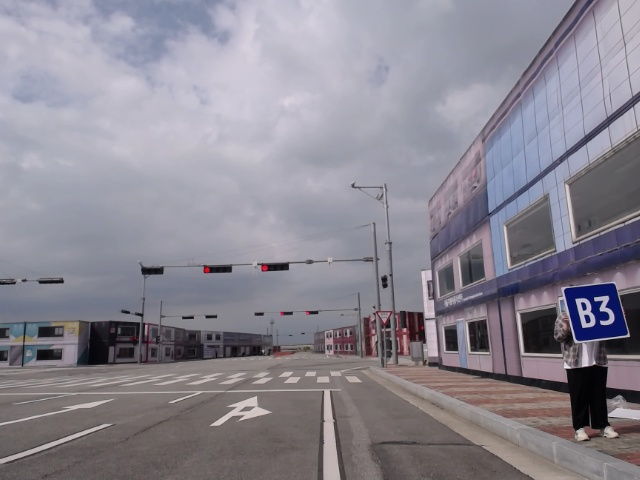delivery_b3: (562, 285, 631, 343)
red_4: (198, 263, 235, 275), (258, 262, 293, 274), (304, 308, 321, 316), (280, 310, 295, 317)
